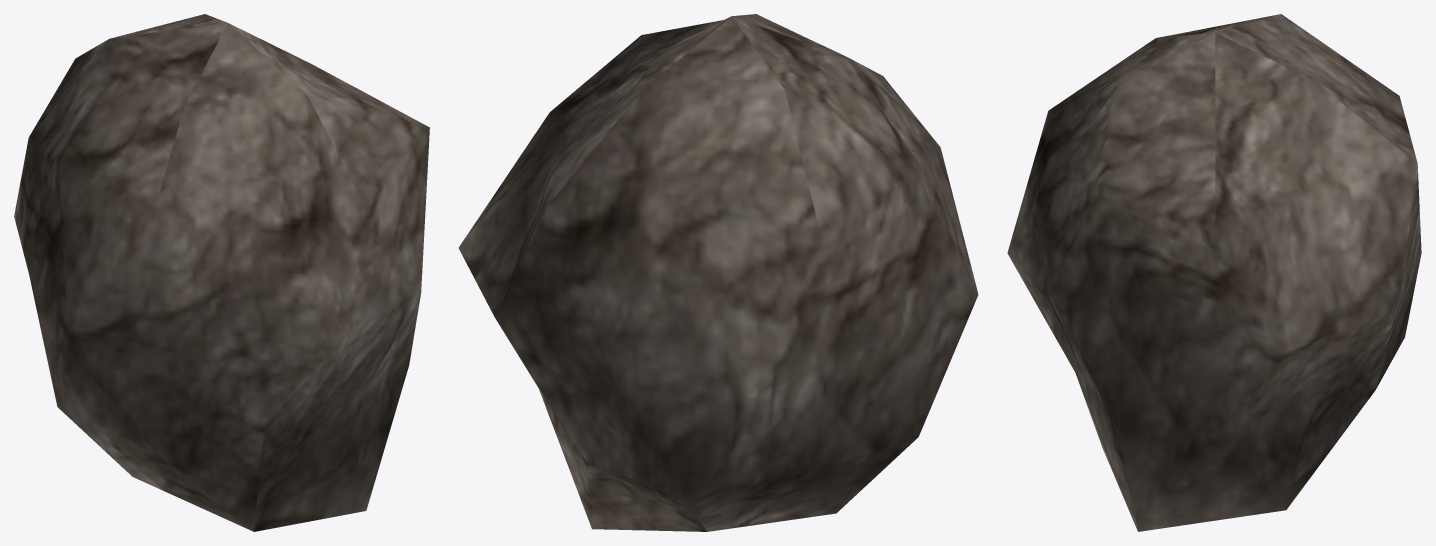
File: boulder.obj
3 renders of one model, left to right at view 1: azimuth 30°, elevation 25°; view 2: azimuth 150°, elevation 25°; view 3: azimuth 270°, elevation 25°, orthographic. The views are drawn at different scales.
Parts seen in each view (by area): view 1: Icosphere; view 2: Icosphere; view 3: Icosphere.
Boxes of the visible parts, left/top/right/bottom form: Icosphere: left=14, top=14, right=429, bottom=531; Icosphere: left=458, top=14, right=978, bottom=531; Icosphere: left=1007, top=14, right=1421, bottom=531.
Size of the model in its own units: 1.32 by 1.51 by 1.25.
